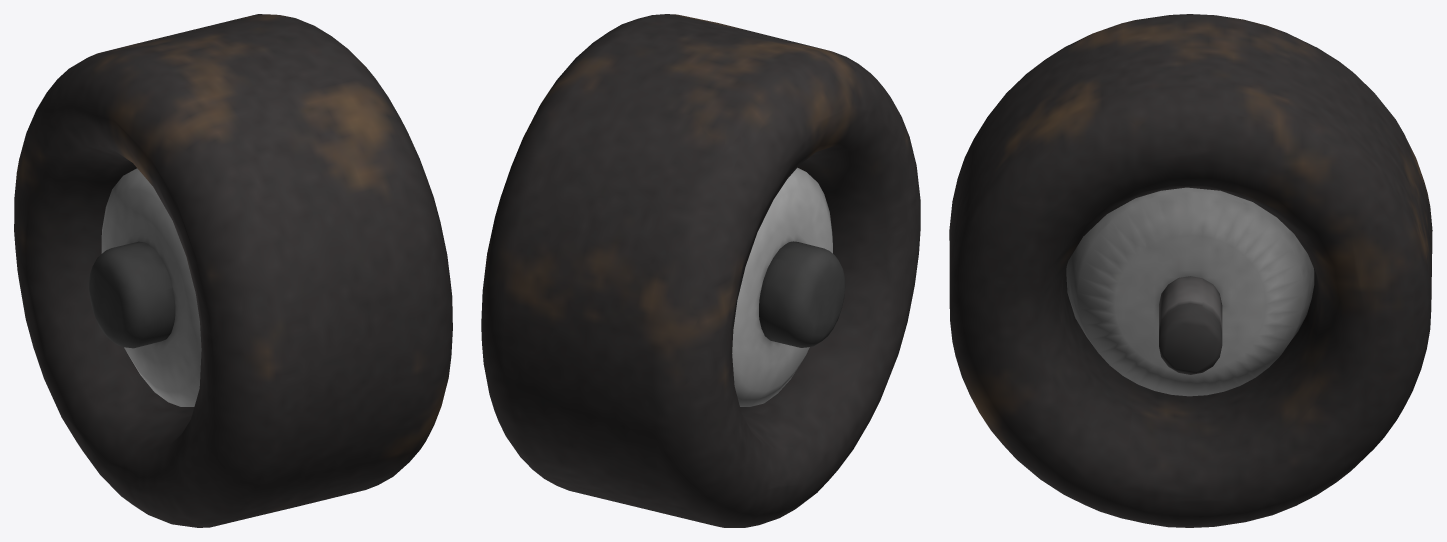
3 views of the same model, side by side, from view 1: azimuth 30°, elevation 25°; view 2: azimuth 150°, elevation 25°; view 3: azimuth 270°, elevation 25° (orthographic).
Visible parts, largest first — view 1: wheel_FR; view 2: wheel_FR; view 3: wheel_FR.
Boxes of the visible parts, x1=… form: wheel_FR: x1=14, y1=14, x2=452, y2=527; wheel_FR: x1=481, y1=14, x2=920, y2=527; wheel_FR: x1=949, y1=14, x2=1432, y2=527.
Size of the model in its own units: 0.1812 by 0.2694 by 0.2694.
1 material, 1 textured.
